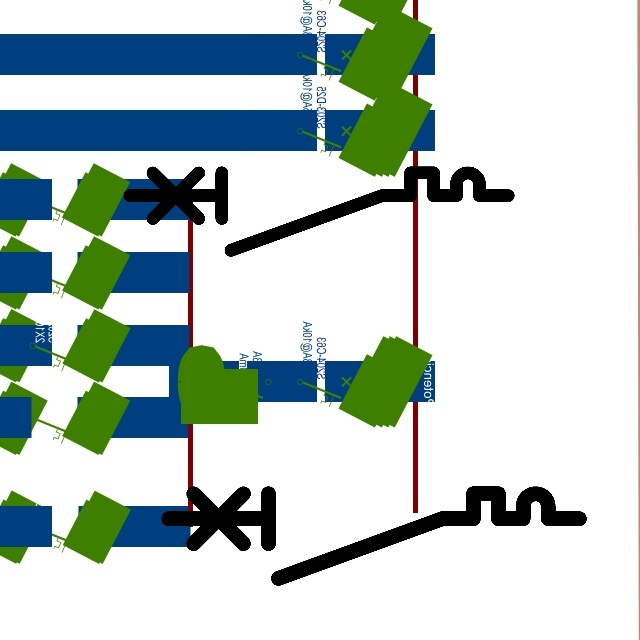interruptor_termomagnetico: (158, 483, 590, 588), (120, 163, 518, 260)
